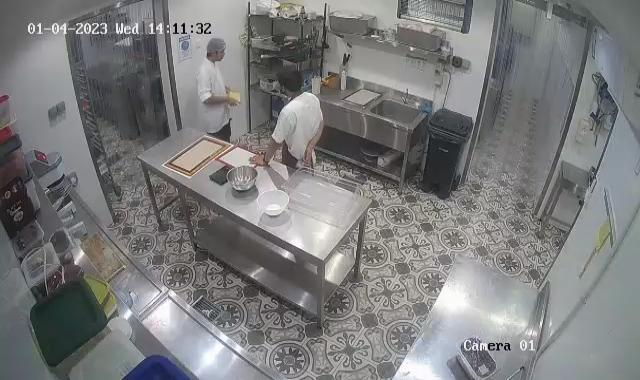hairnet: (205, 36, 230, 57)
no_hairnet: (274, 63, 304, 95)
